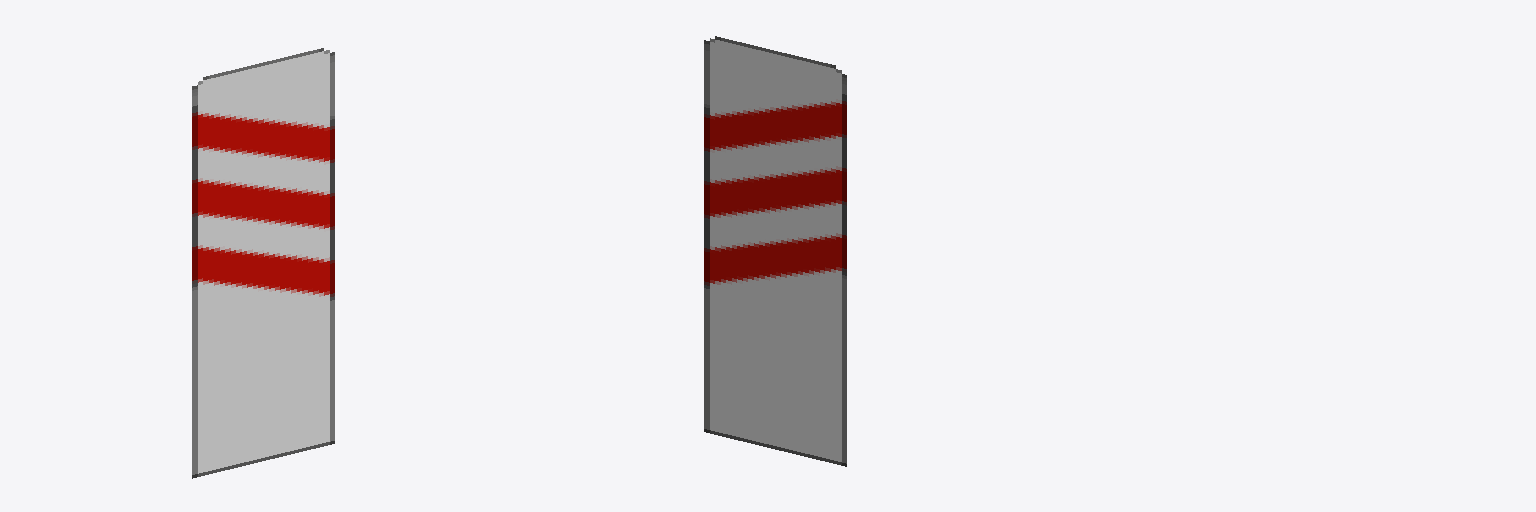
3 renders of one model, left to right at view 1: azimuth 30°, elevation 25°; view 2: azimuth 150°, elevation 25°; view 3: azimuth 270°, elevation 25°, orthographic.
Parts seen in each view (by area): view 1: Cube.001; view 2: Cube.001; view 3: none.
Part boxes in pixels (bbox=[...]): Cube.001: bbox=[192, 48, 334, 478]; Cube.001: bbox=[704, 36, 846, 466].
Bounding box in the file's own units: 0.5 × 1.33 × 0.095.
2 materials, 2 textured.